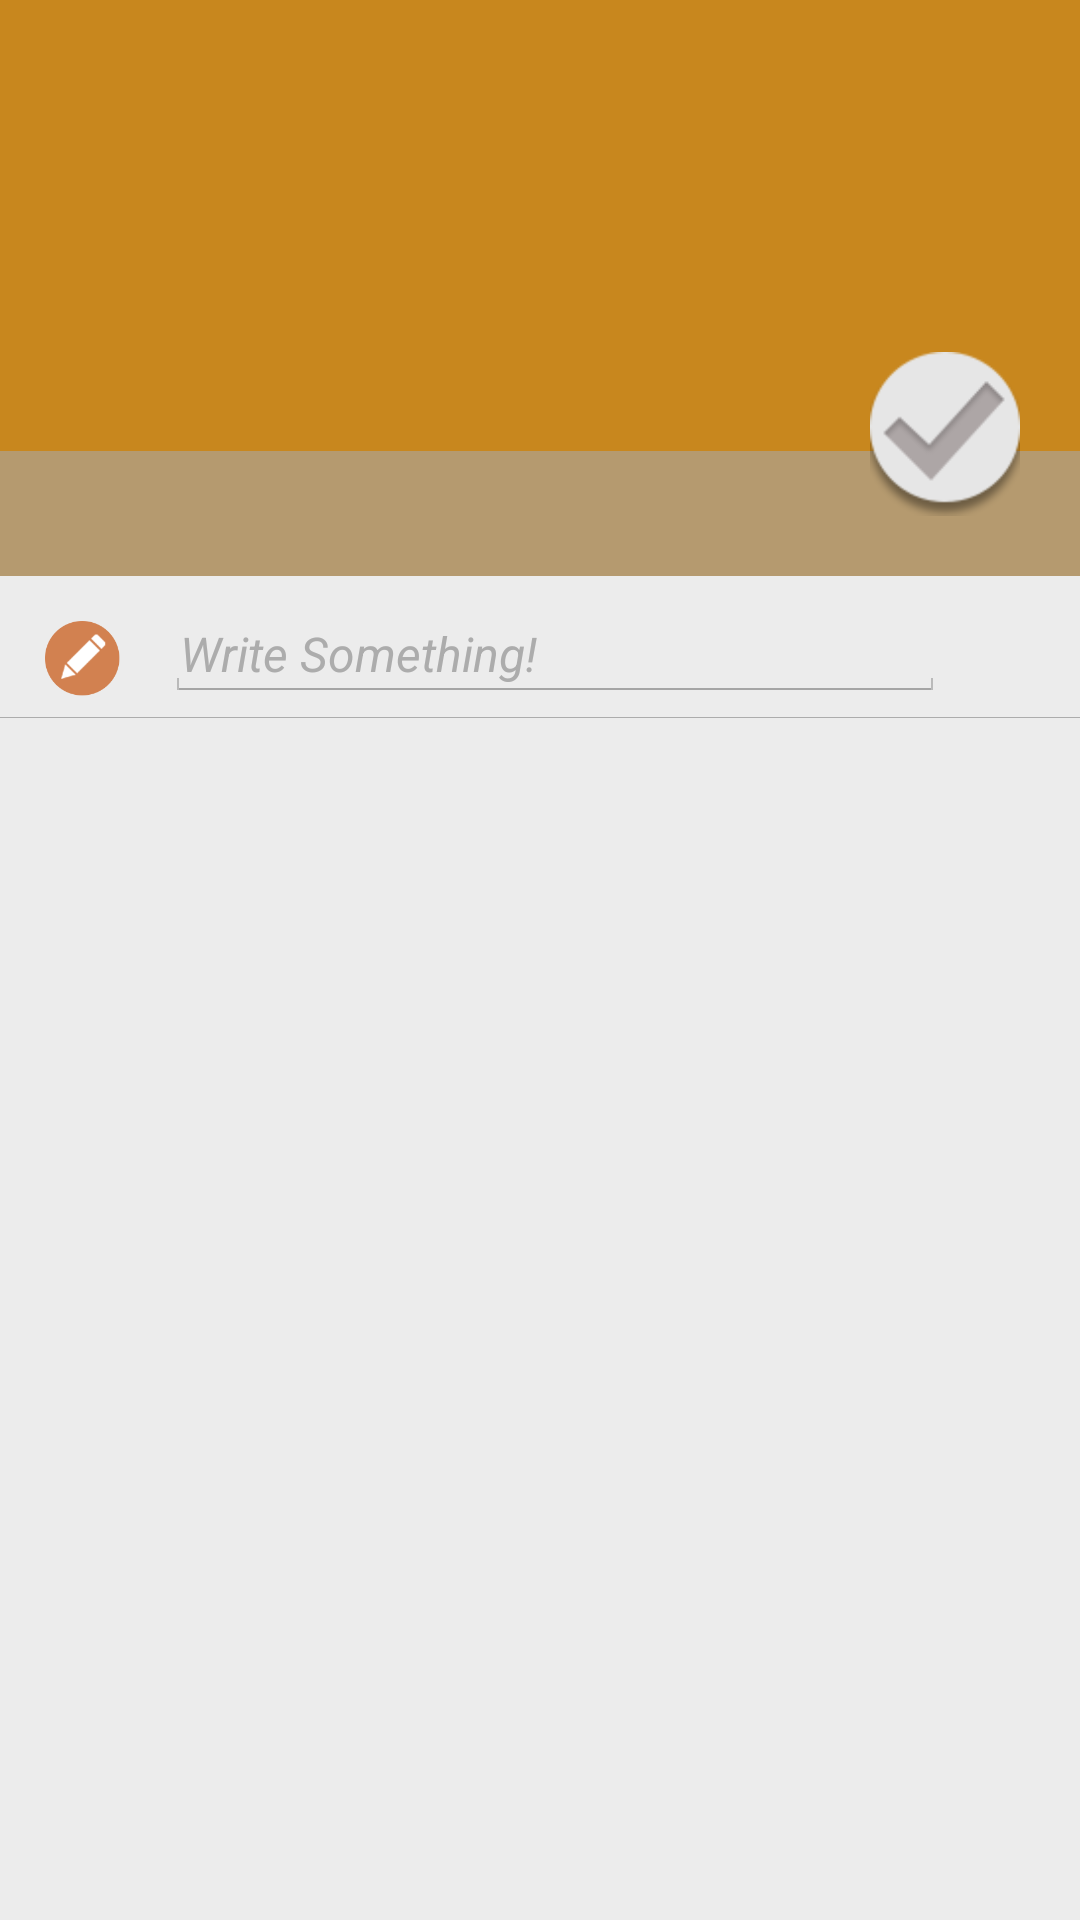

Icons on this 1080x1920 Android screen, each with the point to tap as (x,y):
checkin off: (945,433)
edit: (82,658)
